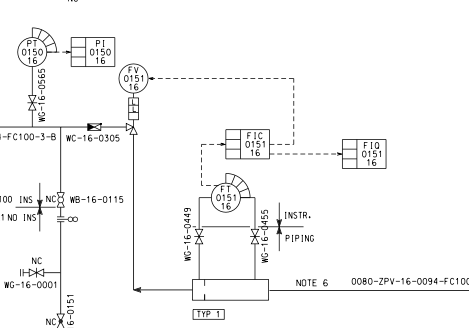Instrument: (118, 63, 151, 97), (210, 180, 242, 215), (16, 36, 50, 67)
Instrument-square: (222, 123, 276, 167), (339, 137, 392, 173), (67, 33, 117, 70)
